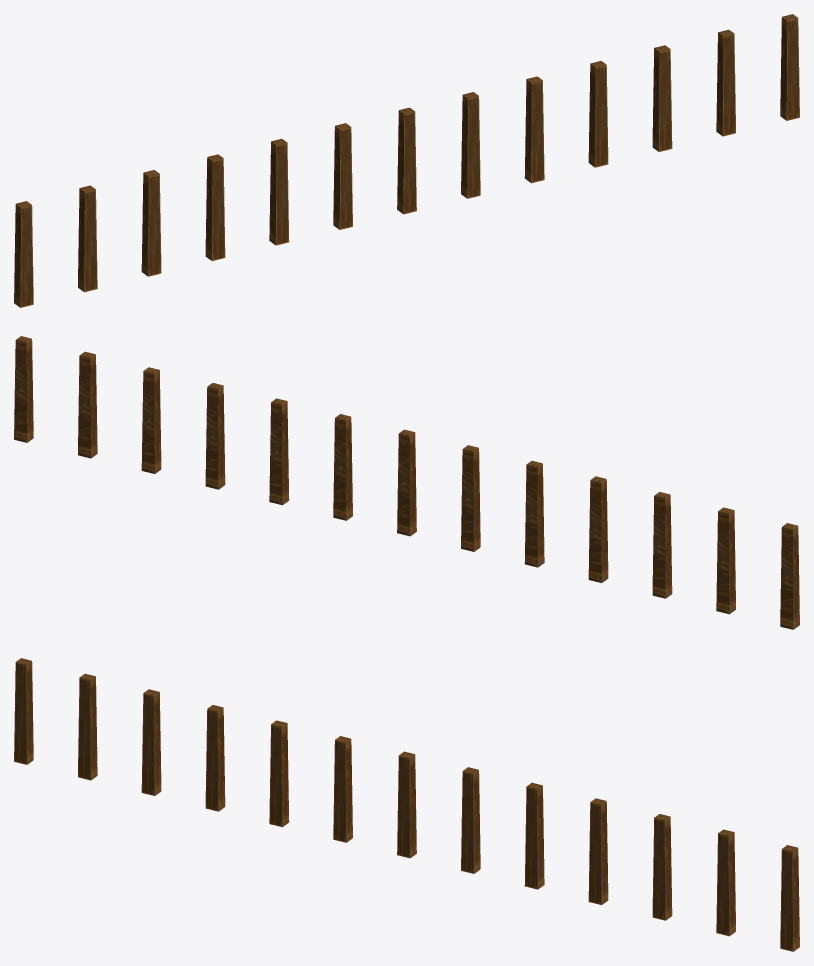
The picture shows the model from 3 angles, top to bottom: view 1: azimuth 30°, elevation 25°; view 2: azimuth 150°, elevation 25°; view 3: azimuth 330°, elevation 25°; orthographic projection.
Parts seen in each view (by area): view 1: 4x4.057; view 2: 4x4.057; view 3: 4x4.057.
Part boxes in pixels (bbox=[...]): 4x4.057: bbox=[14, 14, 799, 307]; 4x4.057: bbox=[14, 336, 799, 629]; 4x4.057: bbox=[14, 658, 799, 951].
Bounding box in the file's own units: 1045 × 128 × 15.14.
1 material, 1 textured.
